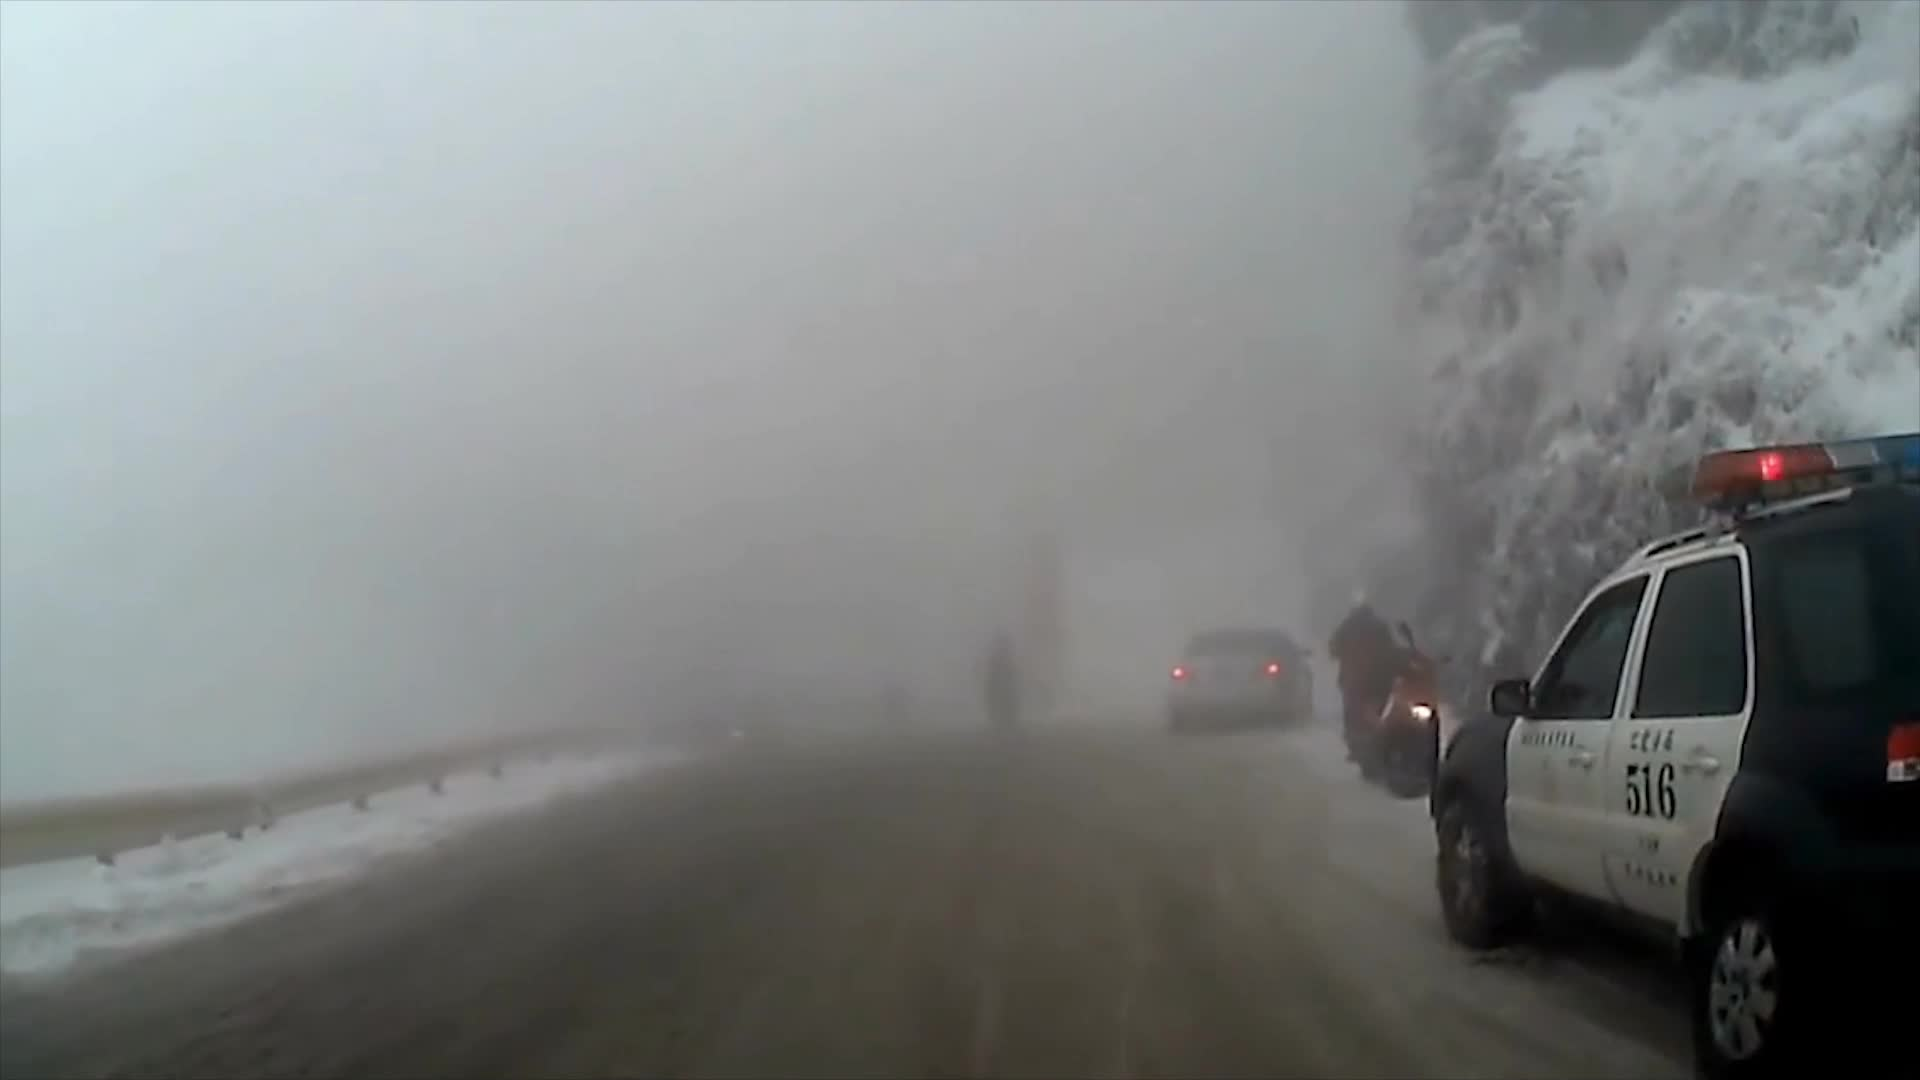pedestrian: (1330, 588, 1405, 757), (986, 628, 1024, 741)
vehicle: (1421, 434, 1918, 1080), (1163, 626, 1315, 739)
